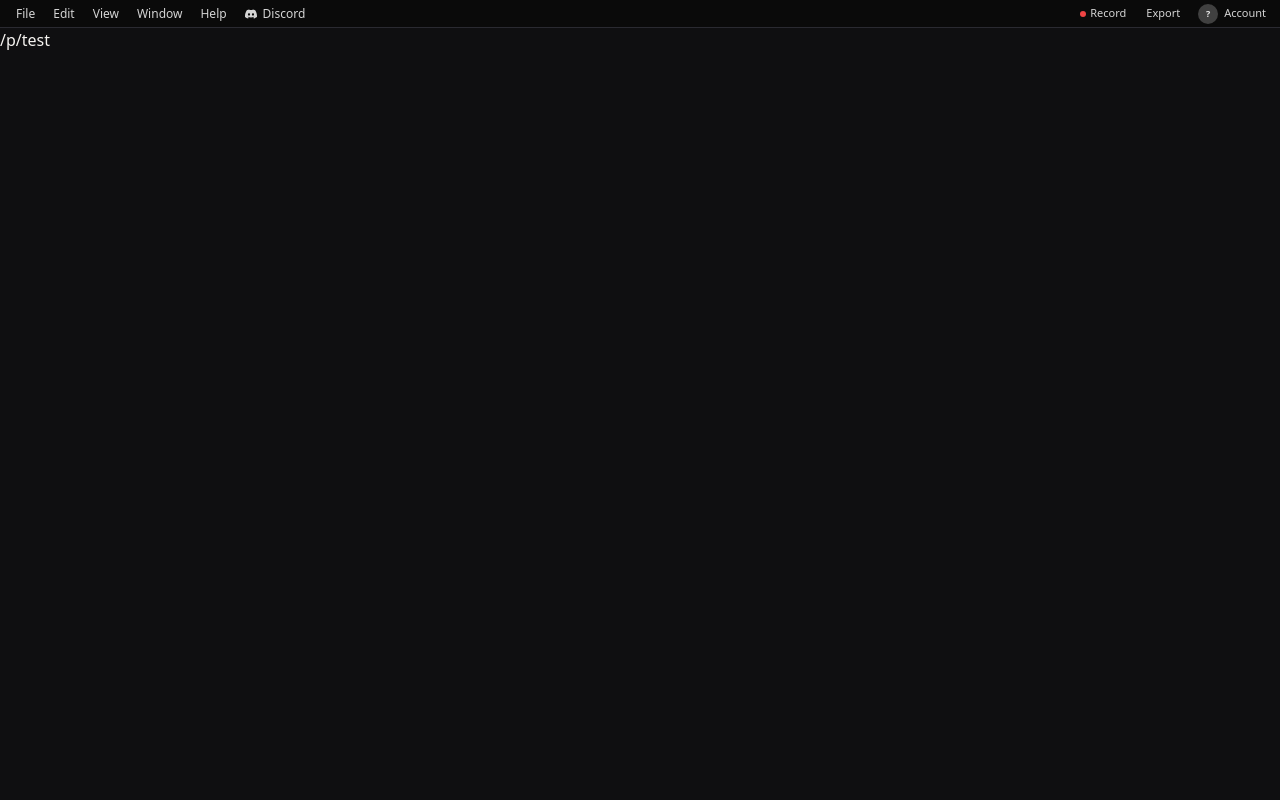
Scenario: MenuBar › File → Export Video renders through the SAME `export` tool the agent uses
Step 1. Click the button "File" → point(26, 14), box [8,2,43,24]
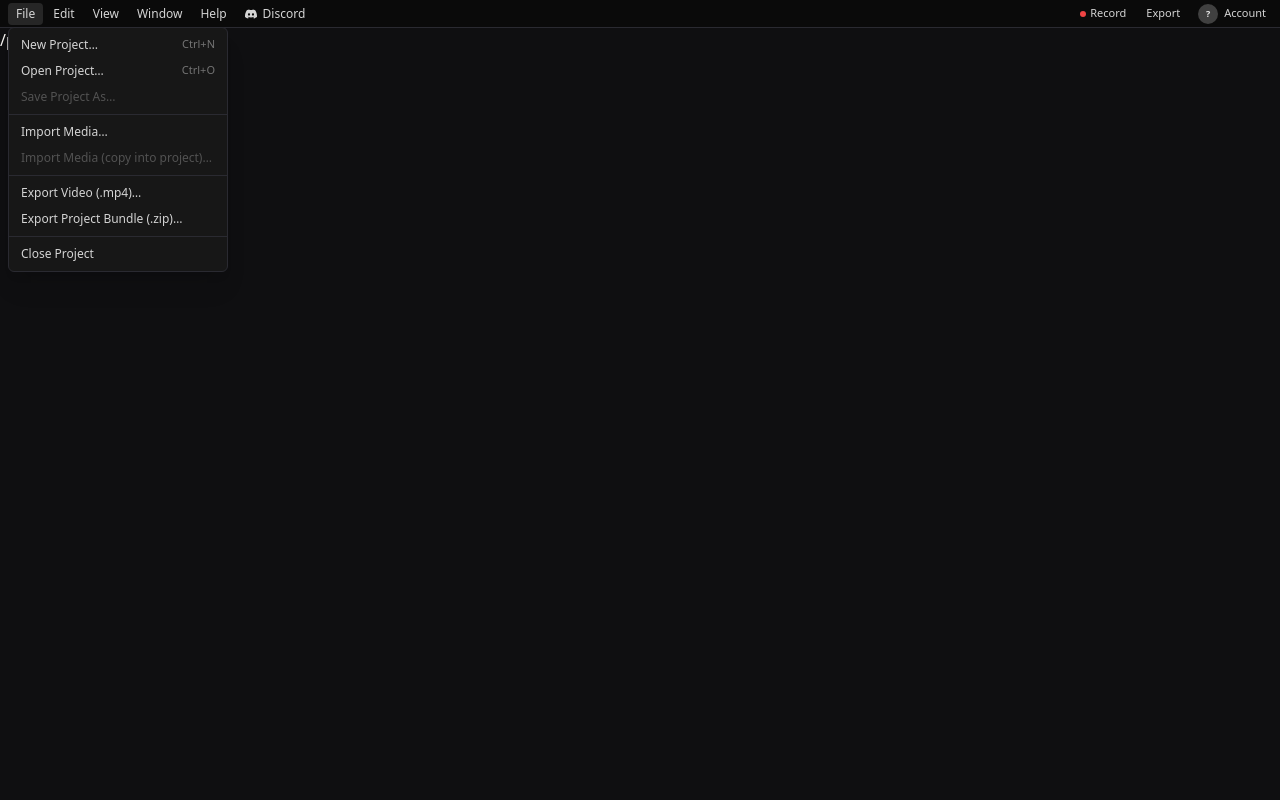
Step 2. Click the button "Export Video (.mp4)…" → point(118, 192), box [9,180,227,206]
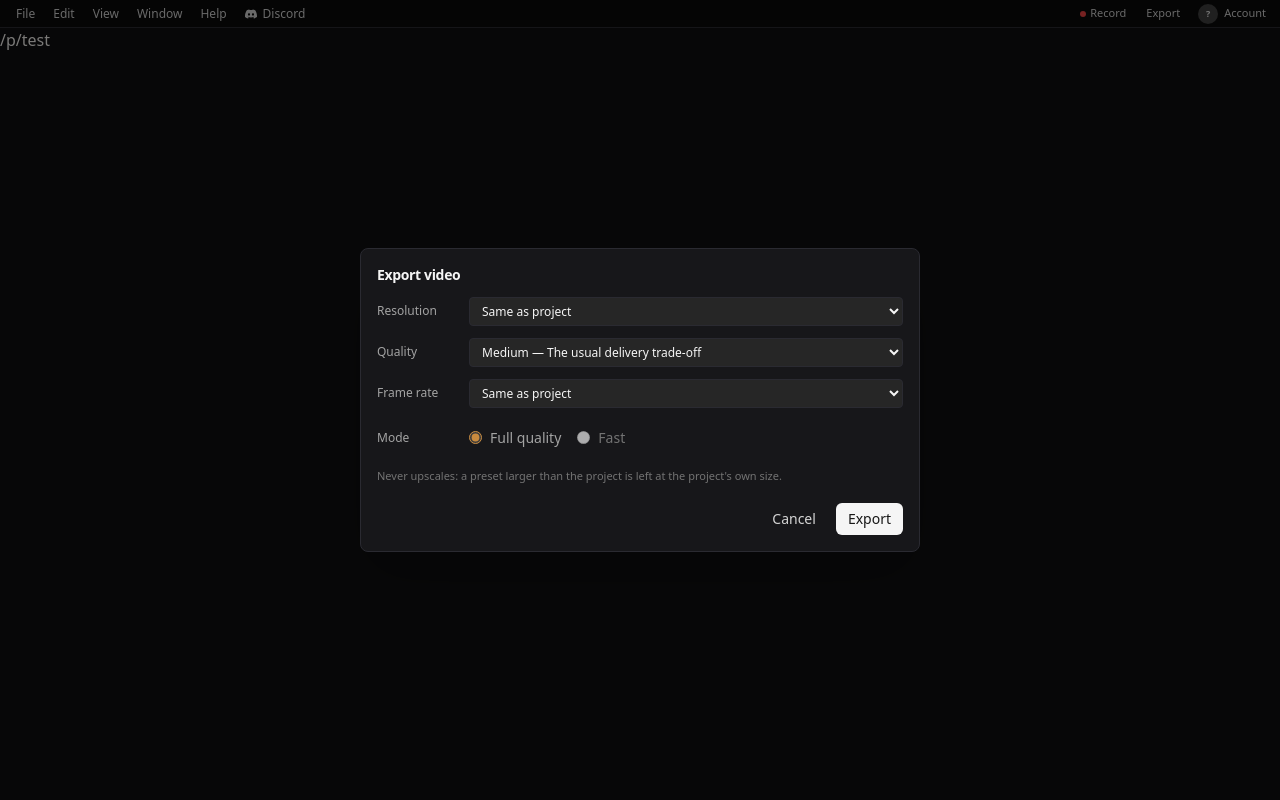
Step 3. Click the button "Export" → point(869, 519), box [836,503,903,535]
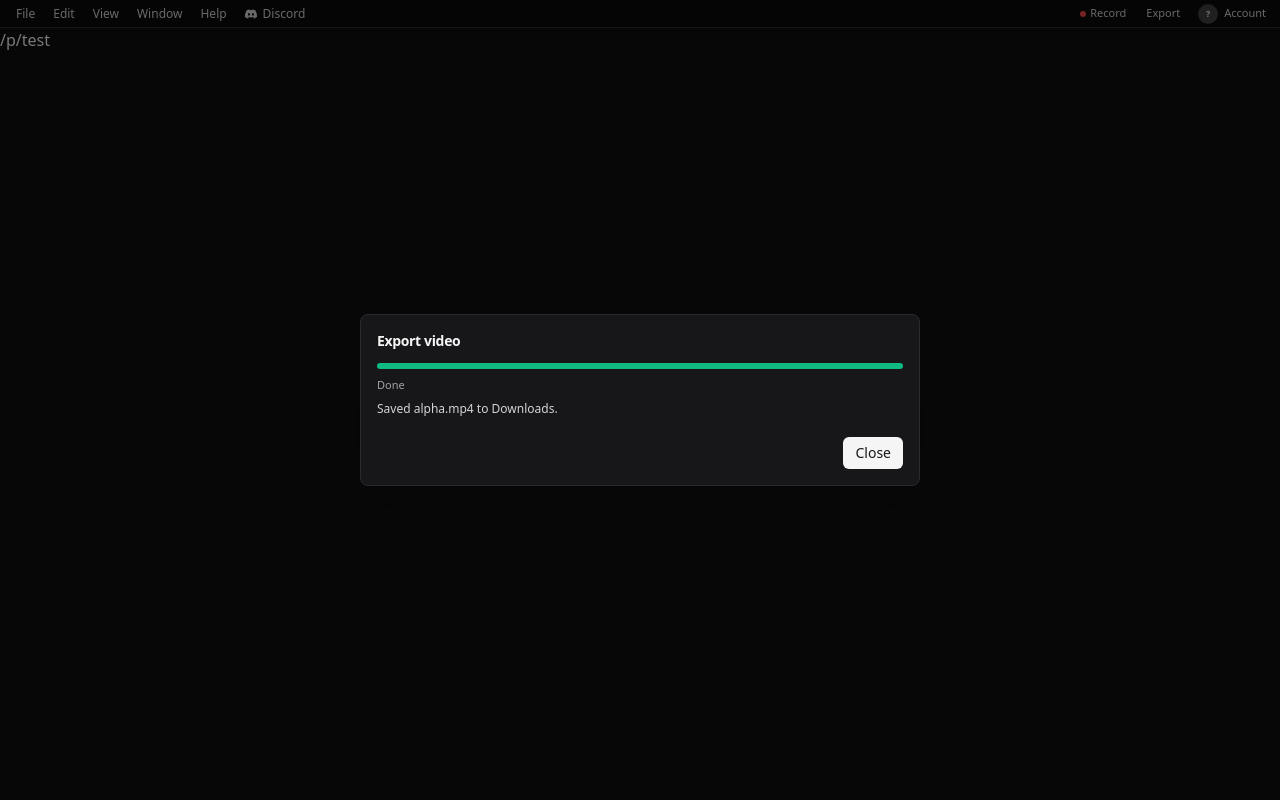
Now the text "Saved alpha.mp4 to Downloads." is shown, box [377,400,558,417]
